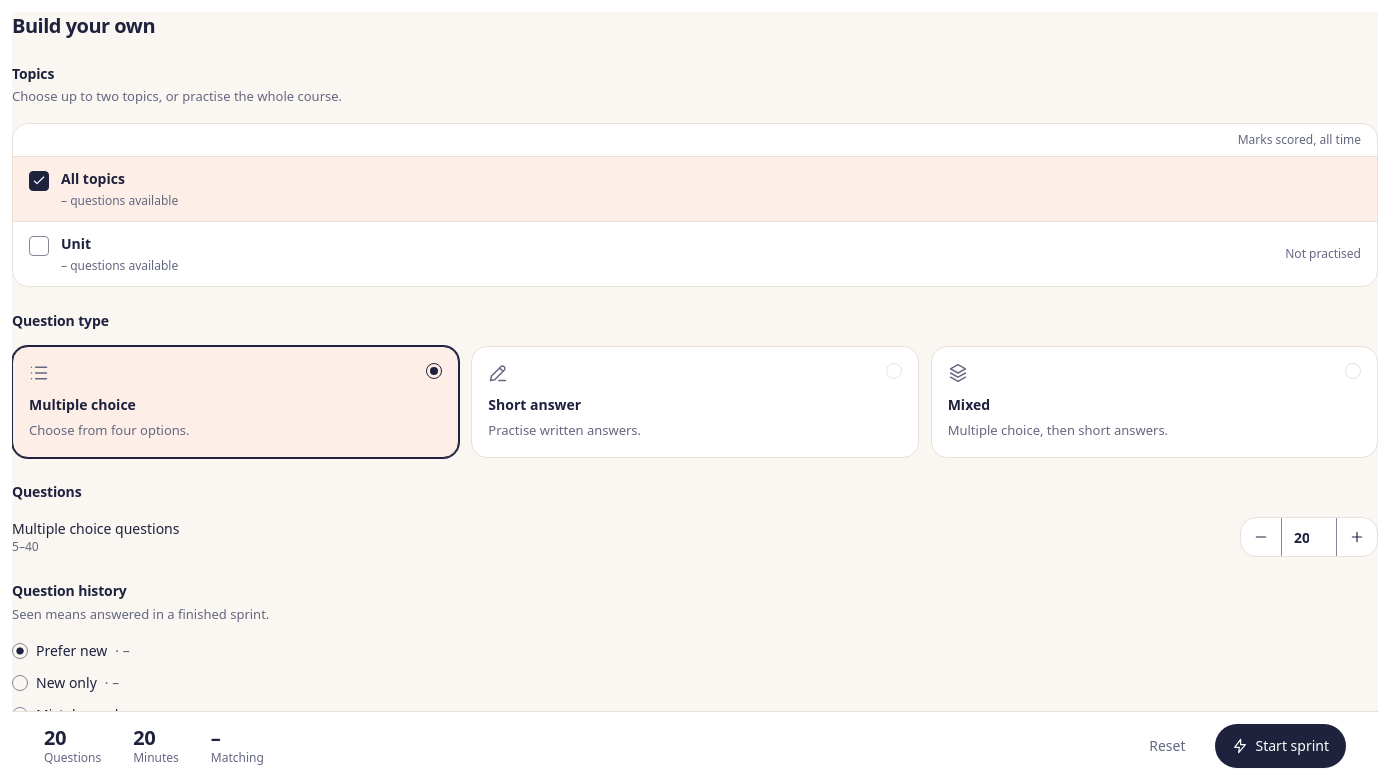
clears a unit's UUID dot points when its checkbox is deselected
Click the button "Unit – questions available Not practised": click(76, 243) [29,234,1361,274]
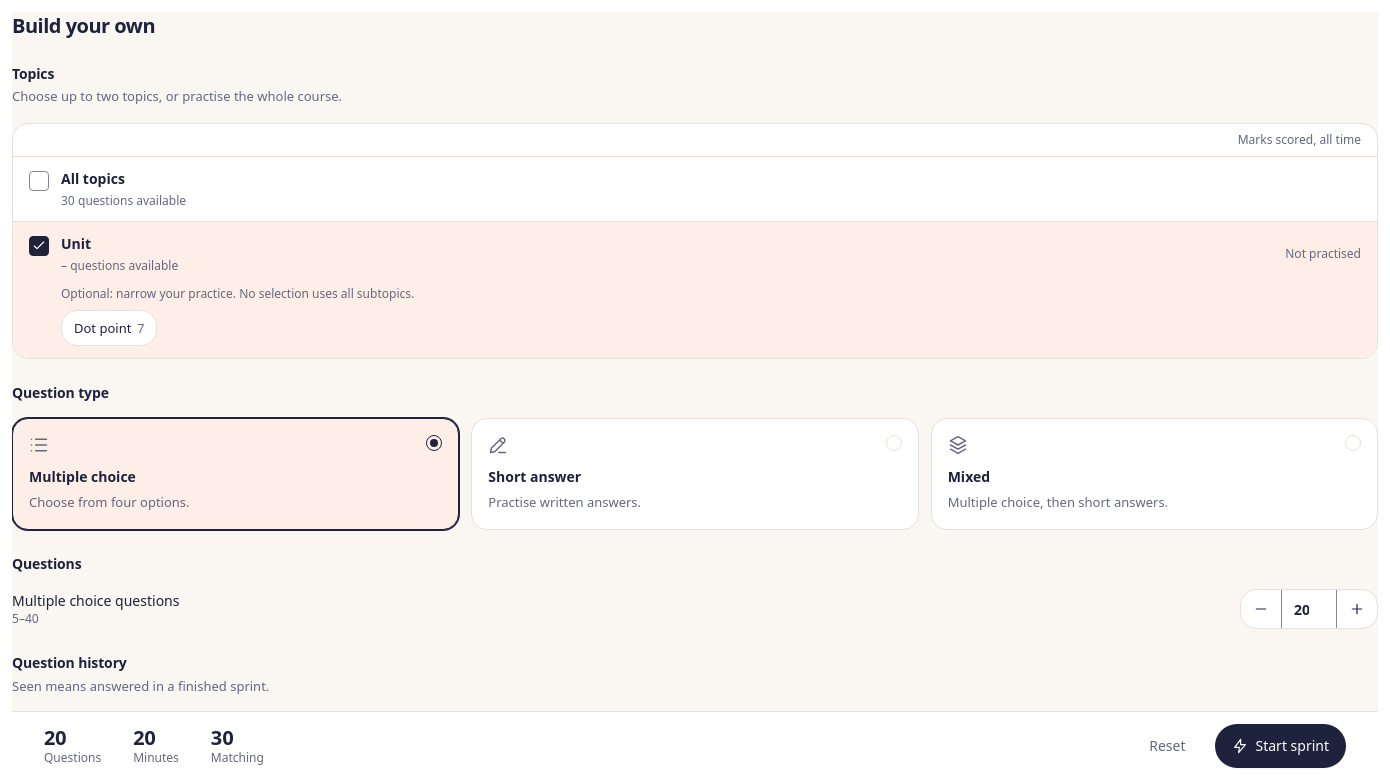
Click the button "Dot point 7": click(109, 328) [61,310,157,346]
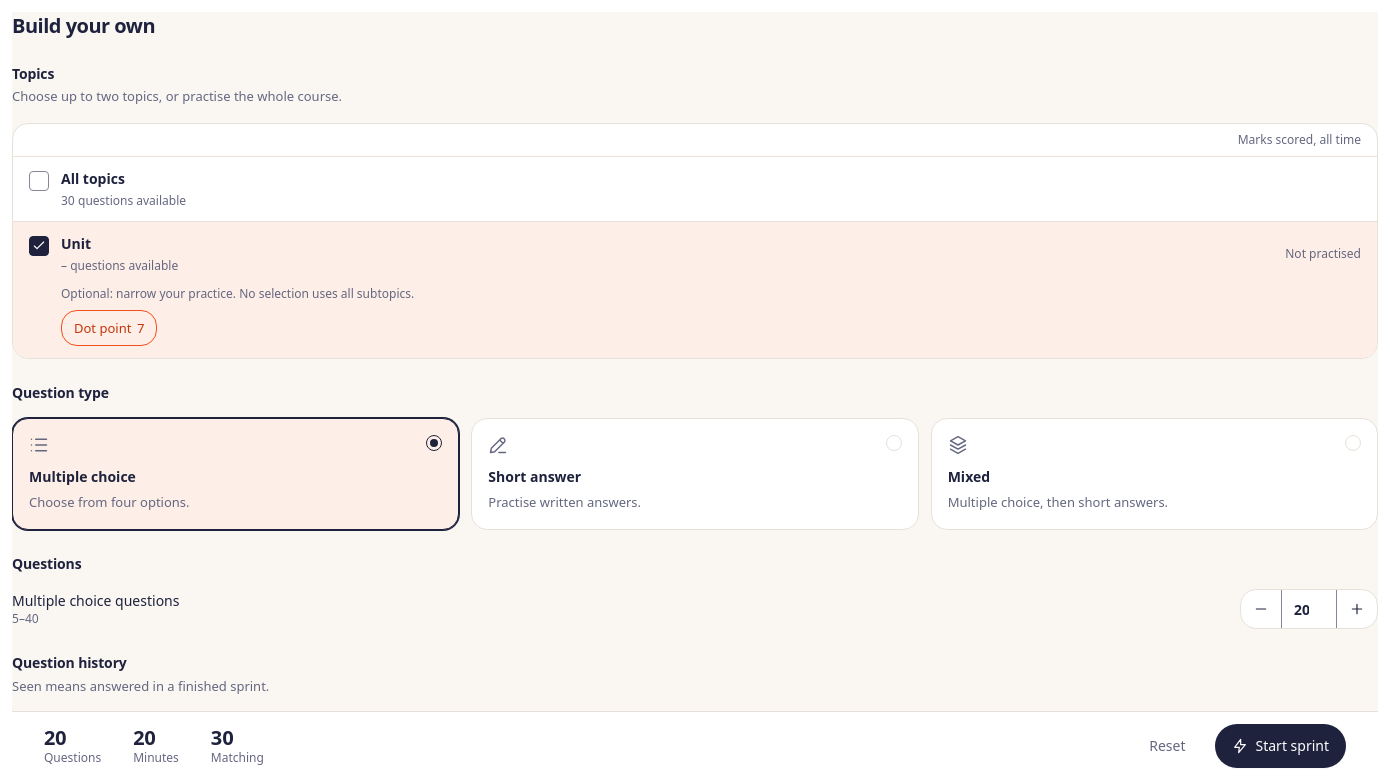
expect the button "Unit – questions available Not practised" is pressed: met
Click the button "Unit – questions available Not practised": click(76, 243) [29,234,1361,274]
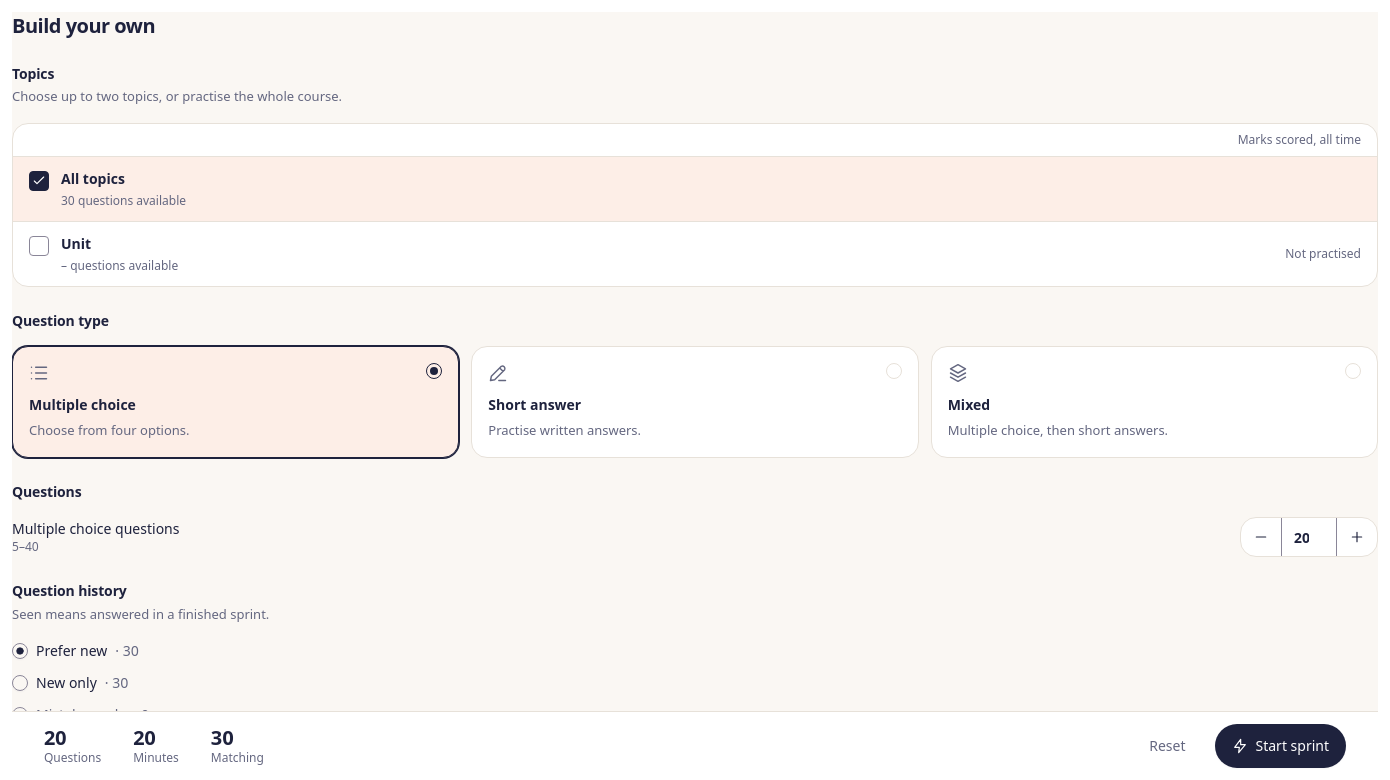
expect the button "Dot point 7" is gone: met
